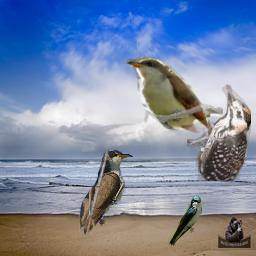Cuckoo: (123, 51, 223, 133), (79, 150, 146, 235)
Swallow: (168, 195, 202, 248)
Woodpecker: (187, 84, 251, 181)
